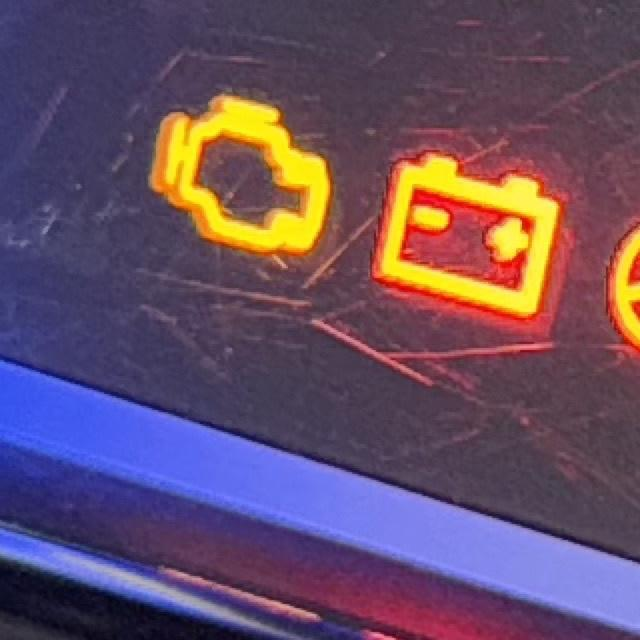Battery Issue: (370, 150, 568, 323)
Engine Issue: (144, 85, 337, 258)
